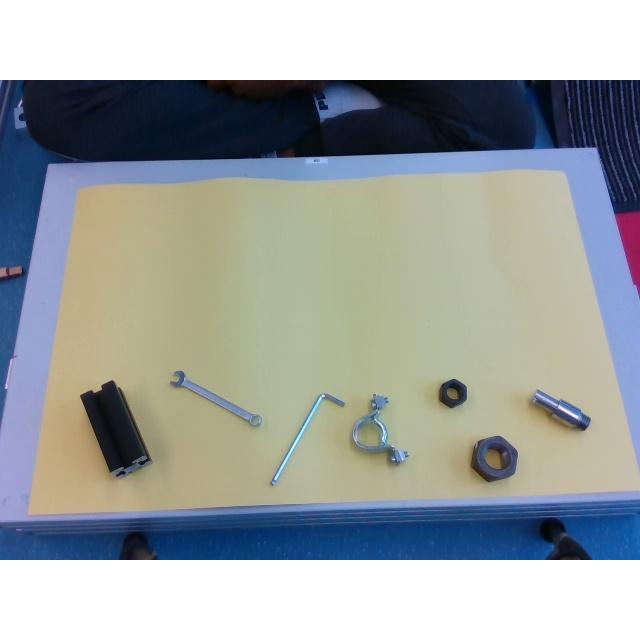Axis2: (530, 390, 590, 430)
Housing: (351, 392, 409, 463)
M20: (439, 379, 467, 407)
M30: (471, 436, 517, 480)
S40_40_B: (81, 380, 151, 476)
